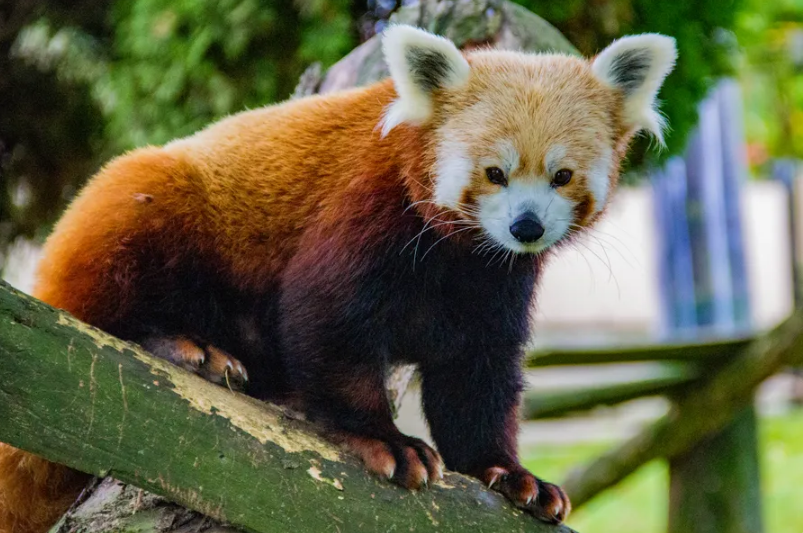red_panda: (332, 22, 689, 519)
